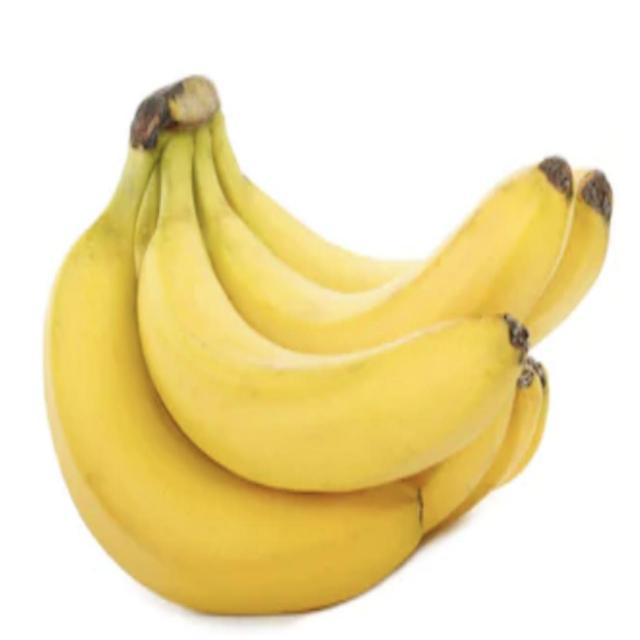banana: (6, 131, 552, 637), (99, 142, 578, 511)
